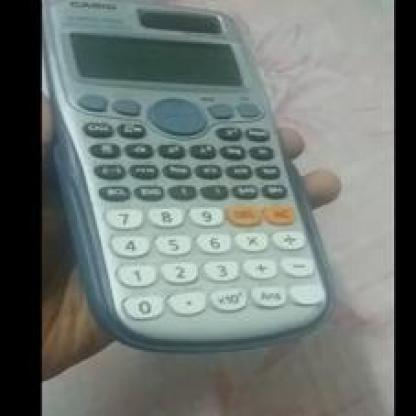calculator: (42, 1, 336, 350)
